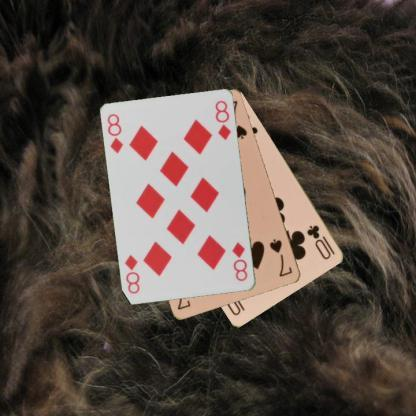10c: (304, 223, 336, 261)
7s: (267, 236, 294, 278)
8d: (104, 111, 125, 155), (229, 240, 249, 282)
